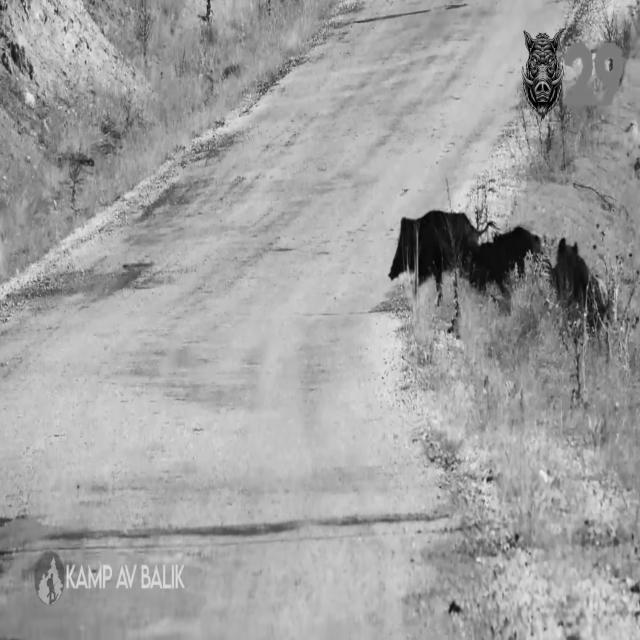boar: (389, 210, 540, 303), (551, 238, 605, 329)
